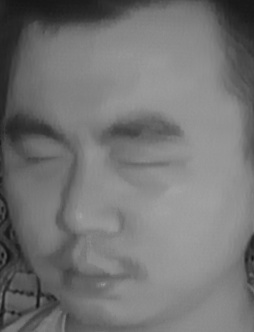blink: (120, 141, 178, 181), (19, 140, 62, 175)
mouth: (49, 246, 133, 301)
